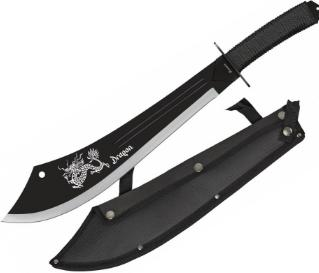MACHETTE: (2, 0, 319, 273)
